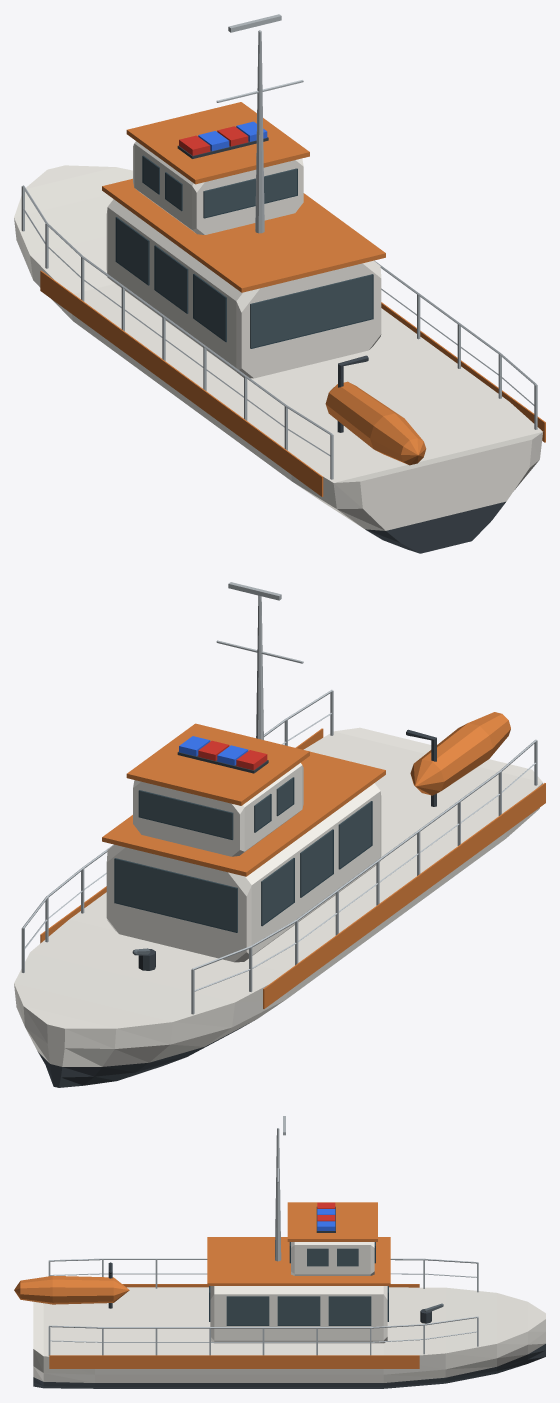
File: BOAT_09.obj
3 views of the same model, one above another, from view 1: azimuth 30°, elevation 25°; view 2: azimuth 150°, elevation 25°; view 3: azimuth 270°, elevation 25° (orthographic). The views are drawn at different scales.
Parts seen in each view (by area): view 1: hull_upper, cabin, windows, cabin_roof, stripe, bridge_roof, bridge, railings, rescue_boat, hull_lower, lightbar, mast; view 2: hull_upper, cabin, windows, cabin_roof, stripe, bridge_roof, bridge, railings, rescue_boat, hull_lower, lightbar, mast; view 3: hull_upper, cabin, stripe, cabin_roof, windows, hull_lower, railings, bridge_roof, rescue_boat, bridge, mast, lightbar.
Boxes of the visible parts, x1,y1,x2,y2 form: hull_upper: (14, 165, 542, 530); cabin: (106, 199, 381, 378); windows: (115, 155, 373, 348); cabin_roof: (102, 178, 385, 292); stripe: (40, 270, 545, 496); bridge_roof: (126, 102, 309, 184); bridge: (133, 141, 303, 234); railings: (21, 185, 537, 479); rescue_boat: (325, 381, 426, 465); hull_lower: (365, 501, 505, 553); lightbar: (177, 121, 268, 158); mast: (216, 30, 303, 233); hull_upper: (14, 727, 542, 1066); cabin: (106, 783, 381, 962); windows: (114, 777, 372, 932); cabin_roof: (102, 751, 385, 876); stripe: (40, 728, 545, 1008); bridge_roof: (126, 723, 309, 805); bridge: (133, 763, 303, 856); railings: (21, 690, 537, 1014); rescue_boat: (410, 712, 510, 795); hull_lower: (37, 1020, 254, 1087); lightbar: (177, 736, 268, 773); mast: (216, 595, 303, 739); hull_upper: (33, 1287, 545, 1382); cabin: (210, 1286, 387, 1343); stripe: (49, 1284, 419, 1368); cabin_roof: (207, 1237, 390, 1285); windows: (209, 1242, 388, 1325); hull_lower: (33, 1344, 545, 1388); railings: (48, 1258, 478, 1355); bridge_roof: (287, 1202, 377, 1241); rescue_boat: (14, 1276, 129, 1304); bridge: (291, 1242, 374, 1275); mast: (275, 1128, 281, 1261); lightbar: (316, 1202, 335, 1232).
Bounding box in the file's own units: 5.28 × 8.7 × 16.52.
